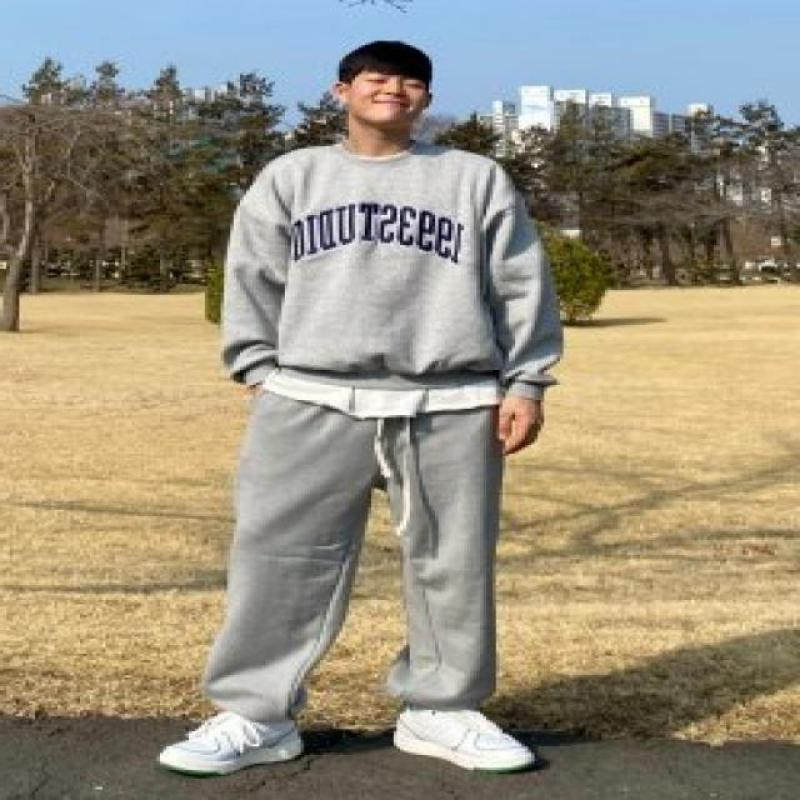sweater: (219, 142, 566, 401)
trousers: (196, 390, 506, 722)
